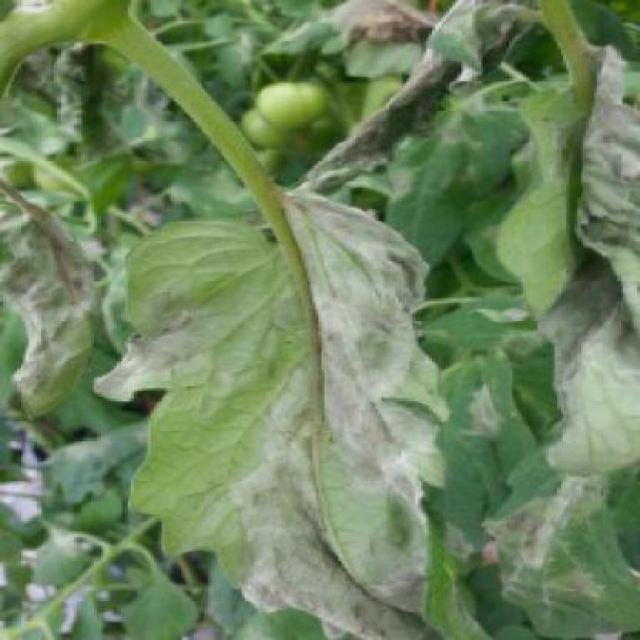Tomato mosaic virus leaf: (100, 162, 478, 624)
